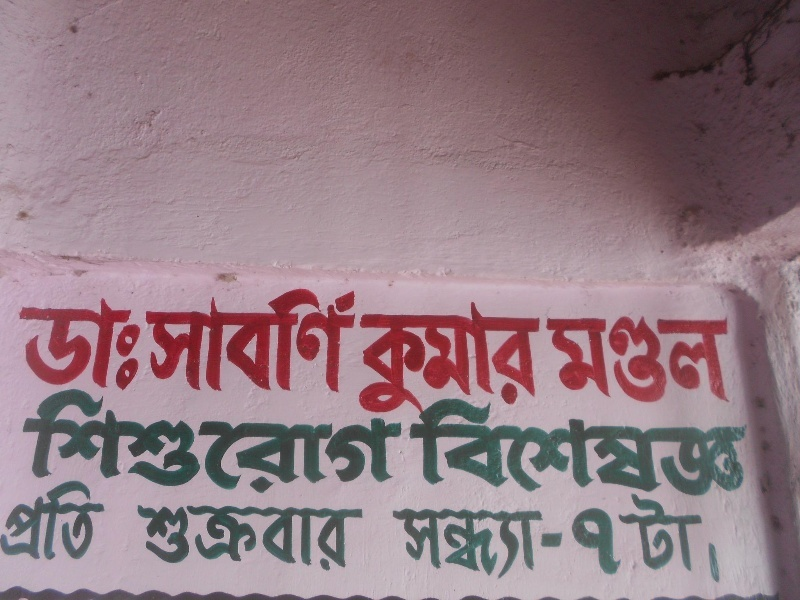text: (33, 382, 48, 504), (49, 382, 64, 504), (65, 382, 80, 504), (81, 382, 96, 504), (97, 382, 112, 504), (113, 382, 128, 504), (129, 382, 144, 504), (145, 382, 160, 504), (161, 382, 176, 504), (177, 382, 192, 504), (193, 382, 208, 504), (209, 382, 224, 504), (225, 382, 240, 504), (241, 382, 256, 504), (257, 382, 272, 504), (273, 382, 288, 504), (289, 382, 304, 504), (305, 382, 320, 504), (321, 382, 336, 504), (337, 382, 352, 504), (353, 382, 368, 504), (369, 382, 384, 504), (385, 382, 400, 504), (369, 299, 384, 415), (385, 299, 400, 415), (401, 299, 416, 415), (417, 299, 432, 415), (433, 299, 448, 415), (449, 299, 464, 415), (465, 299, 480, 415), (481, 299, 496, 415), (497, 299, 512, 415), (513, 299, 528, 415), (529, 299, 543, 415), (161, 289, 176, 397), (177, 289, 192, 397), (193, 289, 208, 397), (209, 289, 224, 397), (225, 289, 240, 397), (241, 289, 256, 397), (257, 289, 272, 397), (273, 289, 288, 397), (289, 289, 304, 397), (305, 289, 320, 397), (321, 289, 336, 397), (337, 289, 352, 397), (417, 397, 432, 500), (433, 397, 448, 500), (449, 397, 464, 500), (465, 397, 480, 500), (481, 397, 496, 500), (497, 397, 512, 500), (513, 397, 528, 500), (529, 397, 544, 500), (545, 397, 560, 500), (561, 397, 576, 500), (577, 397, 592, 500), (593, 397, 608, 500), (609, 397, 624, 500), (625, 397, 640, 500), (641, 397, 656, 500), (657, 397, 672, 500), (673, 397, 688, 500), (689, 397, 704, 500), (705, 397, 720, 500), (721, 397, 736, 500), (33, 295, 48, 393), (49, 295, 64, 393), (65, 295, 80, 393), (81, 295, 96, 393), (97, 295, 112, 393), (113, 295, 128, 393), (561, 314, 576, 408), (577, 314, 592, 408), (593, 314, 608, 408), (609, 314, 624, 408), (625, 314, 640, 408), (641, 314, 656, 408), (657, 314, 672, 408), (673, 314, 688, 408), (689, 314, 704, 408), (705, 314, 720, 408), (147, 289, 160, 397), (21, 382, 32, 504), (577, 490, 592, 578), (593, 490, 608, 578), (609, 490, 624, 578), (625, 490, 640, 578), (641, 490, 656, 578), (657, 490, 672, 578), (673, 490, 688, 578), (689, 490, 704, 578), (546, 314, 560, 408), (129, 295, 142, 393), (17, 482, 32, 563), (33, 482, 48, 563), (49, 482, 64, 563), (65, 482, 80, 563), (81, 482, 96, 563), (401, 504, 416, 584), (417, 504, 432, 584), (433, 504, 448, 584), (449, 504, 464, 584), (465, 504, 480, 584), (481, 504, 496, 584), (497, 504, 512, 584), (513, 504, 528, 584), (529, 504, 544, 584), (545, 504, 560, 584), (20, 295, 32, 393), (145, 502, 160, 574), (161, 502, 176, 574), (177, 502, 192, 574), (193, 502, 208, 574), (209, 502, 224, 574), (225, 502, 240, 574), (241, 502, 256, 574), (257, 502, 272, 574), (273, 502, 288, 574), (289, 502, 304, 574), (305, 502, 320, 574), (321, 502, 336, 574), (337, 502, 352, 574), (353, 502, 368, 574), (387, 504, 400, 584), (737, 397, 747, 500), (4, 482, 16, 563), (97, 482, 108, 563), (408, 397, 416, 500), (361, 299, 368, 415), (567, 490, 576, 578), (721, 314, 729, 408), (706, 538, 720, 586), (561, 504, 568, 584), (705, 490, 710, 578), (353, 289, 357, 397), (138, 502, 144, 574), (401, 382, 403, 504), (369, 502, 372, 574), (721, 538, 724, 586)
